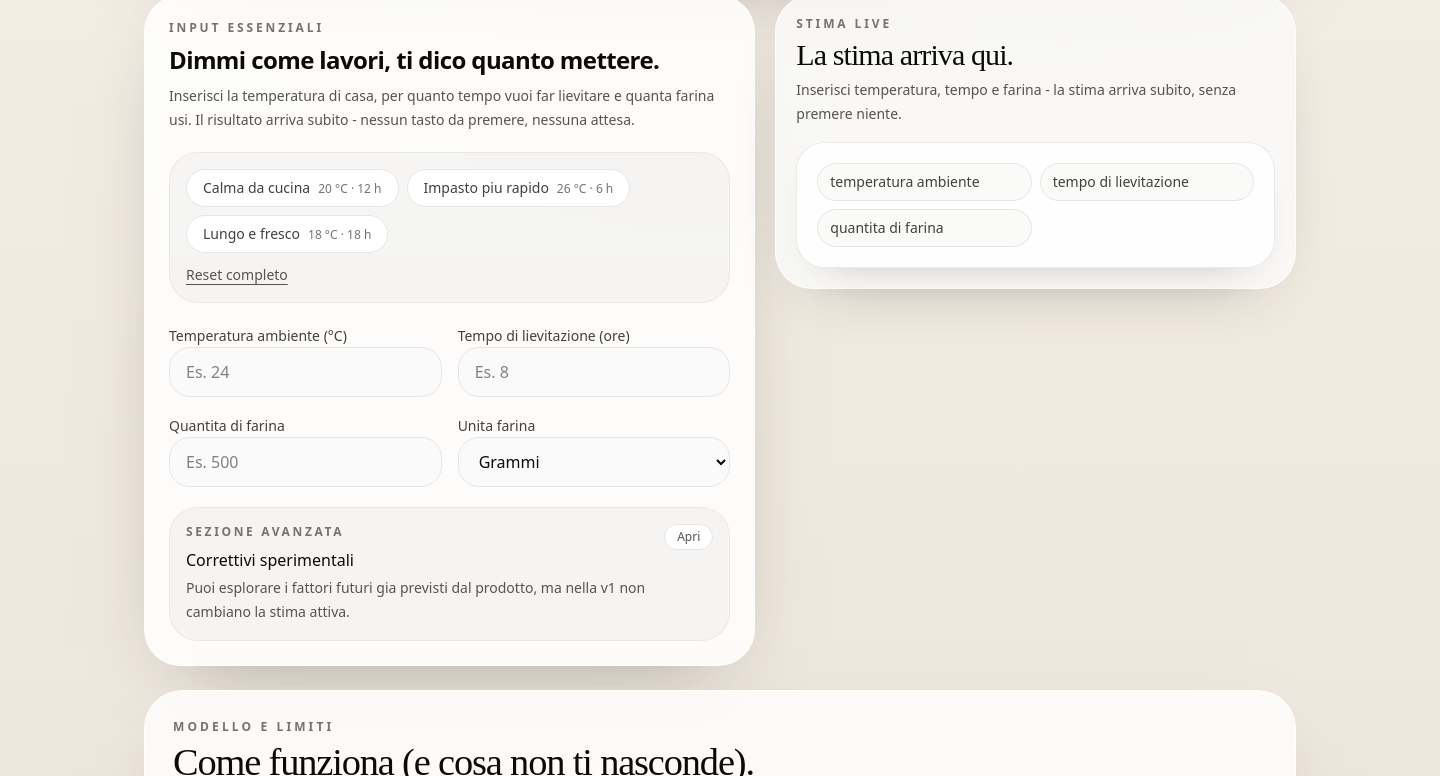
home page calculator flow › shows all experimental modifier categories and keeps the active result unchanged
(page scrolled)
Type "24" into the field labelled "Temperatura ambiente (°C)" at {"x": 305, "y": 372}, box x1=169 y1=347 x2=442 y2=397
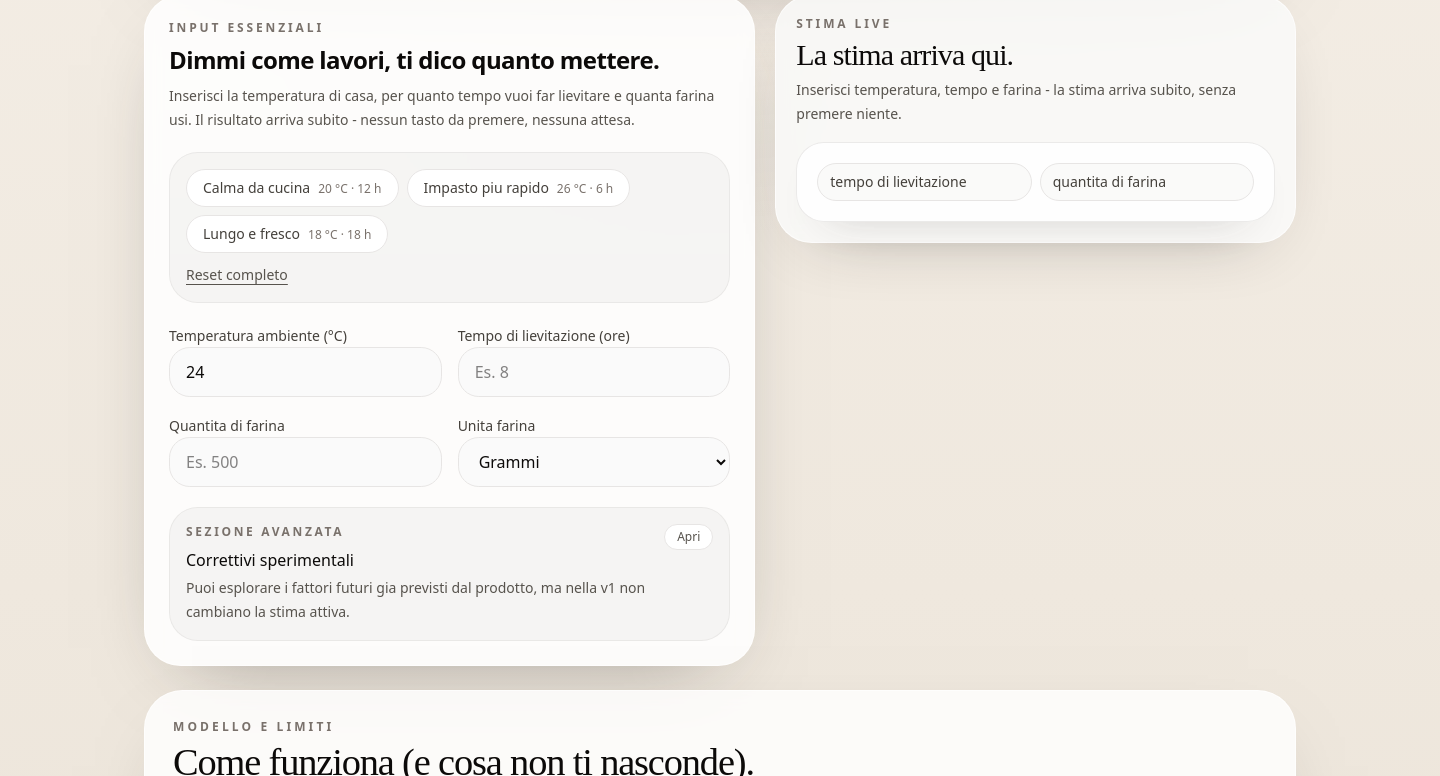
Type "8" into the field labelled "Tempo di lievitazione (ore)" at {"x": 594, "y": 372}, box x1=458 y1=347 x2=730 y2=397
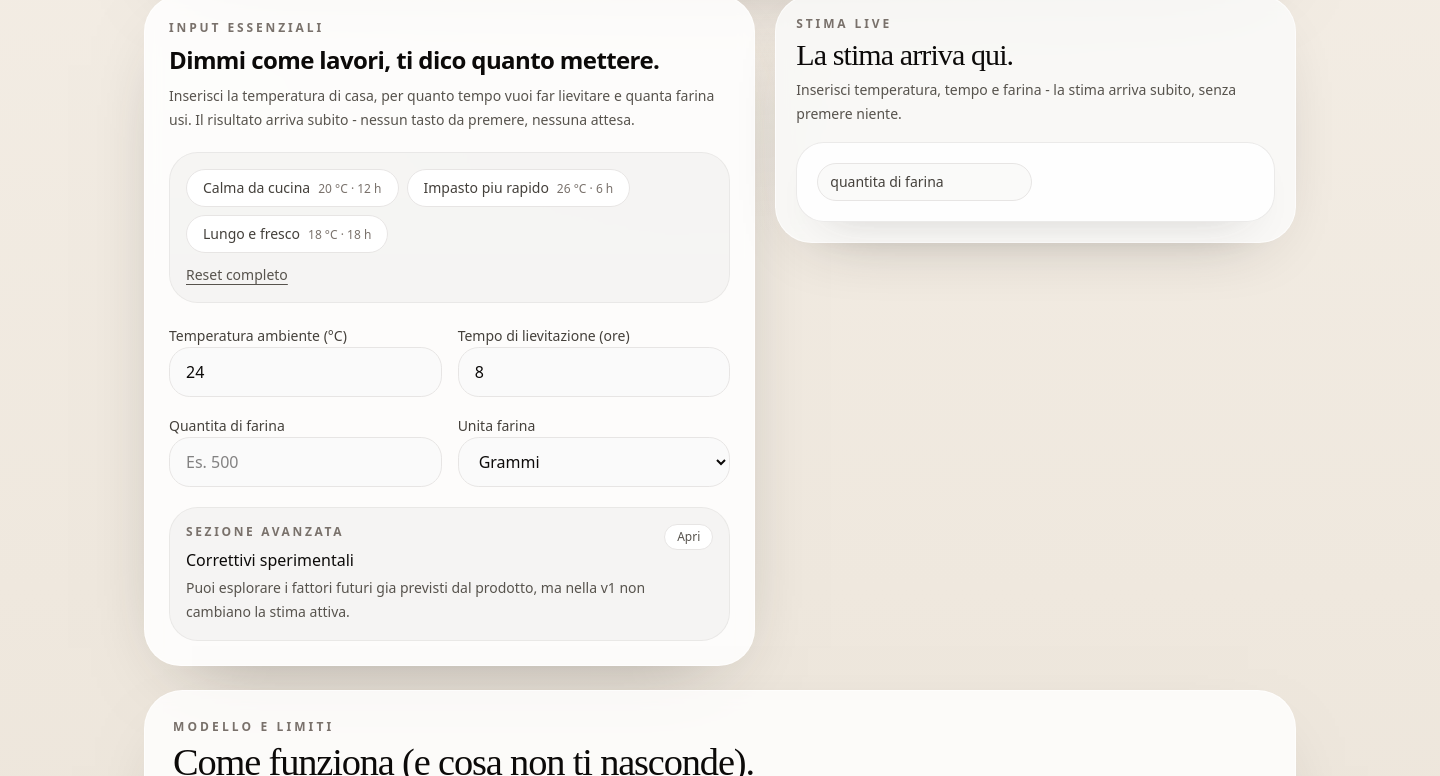
Type "500" into the field labelled "Quantita di farina" at {"x": 305, "y": 462}, box x1=169 y1=437 x2=442 y2=487
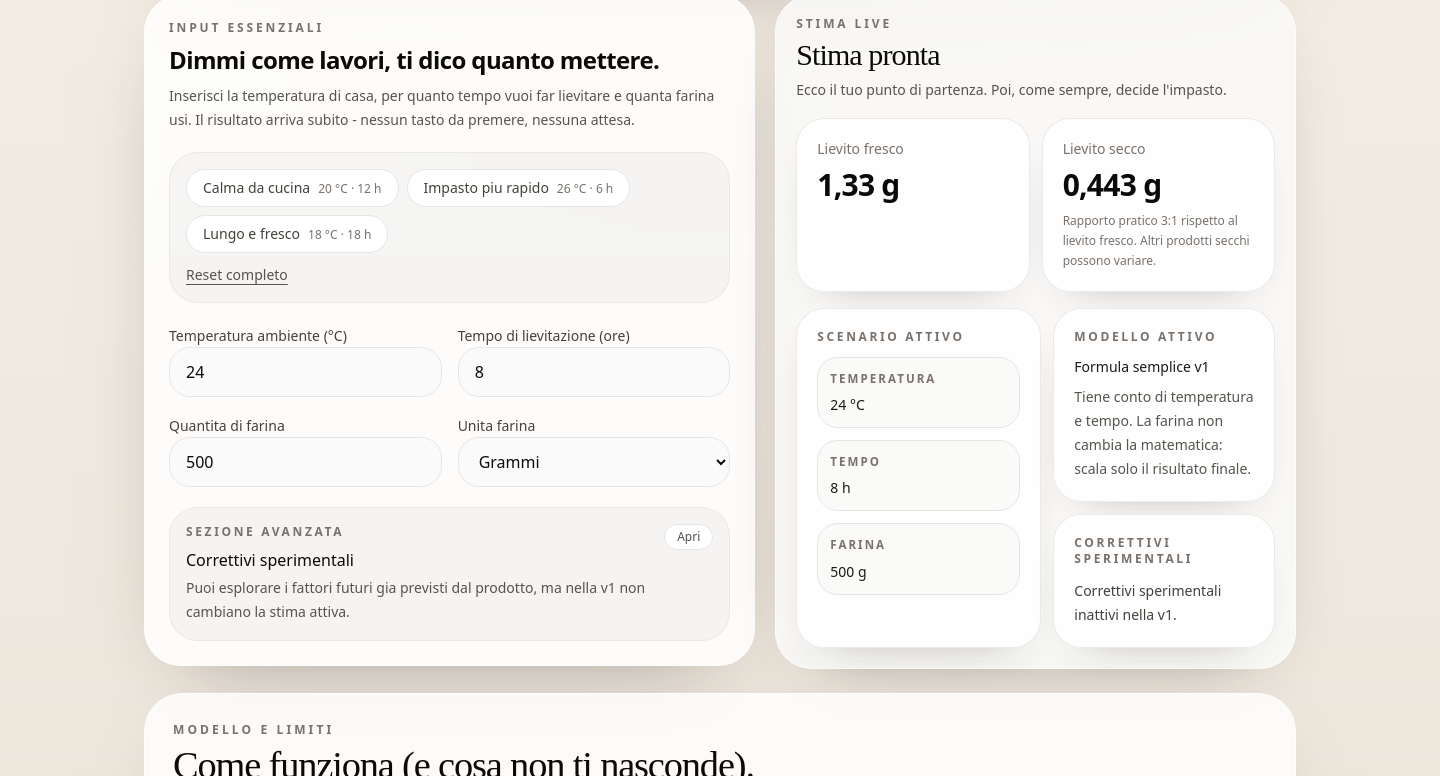
Click the button "Correttivi sperimentali" at {"x": 265, "y": 531}, box x1=186 y1=524 x2=713 y2=624
(page scrolled)
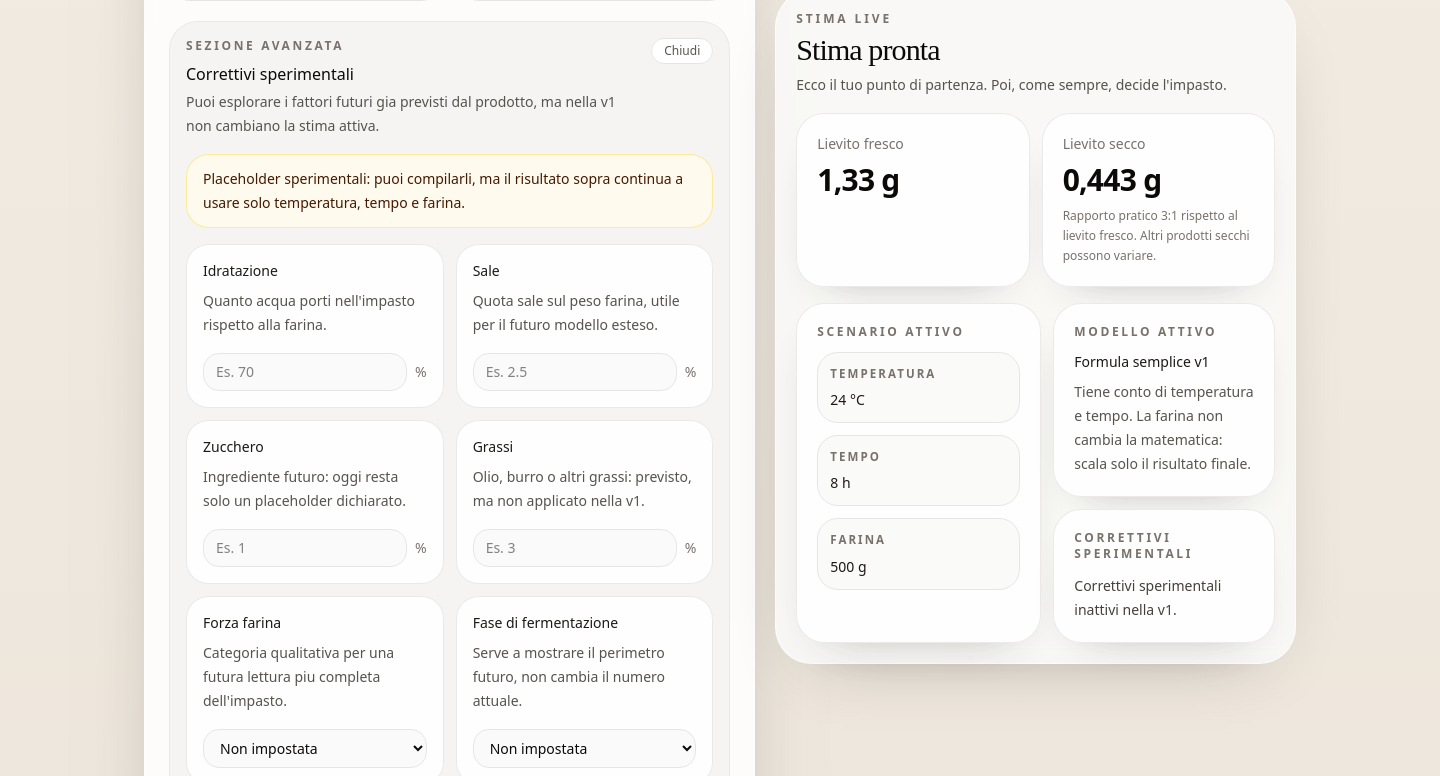
Expected: the number field labelled "Idratazione" is shown
Expected: the number field labelled "Sale" is shown, x1=473 y1=353 x2=677 y2=391
Expected: the number field labelled "Zucchero" is shown, x1=203 y1=529 x2=407 y2=567
Type "70" into the number field labelled "Idratazione" at {"x": 305, "y": 372}, box x1=203 y1=353 x2=407 y2=391
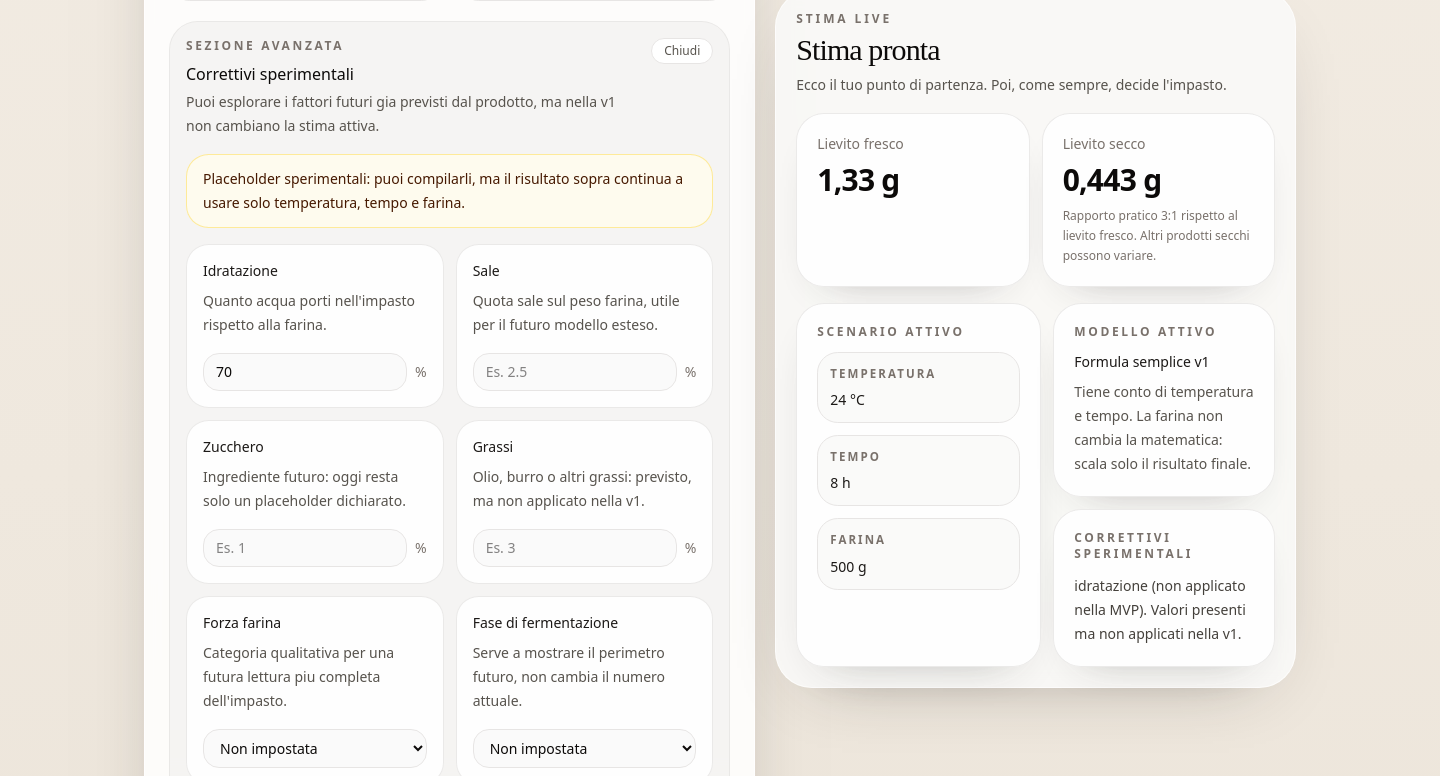
Expected: the text "Valori presenti ma non applicati nella v1" is shown, x1=1074 y1=576 x2=1246 y2=643
